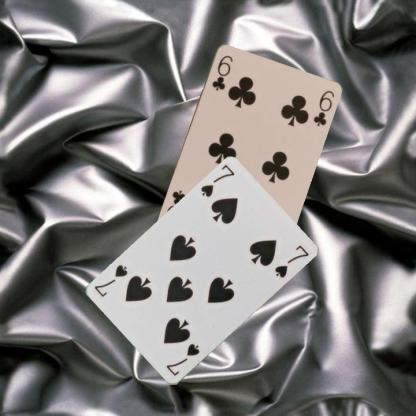6c: (209, 52, 234, 92)
7s: (198, 162, 236, 199), (164, 341, 201, 378)
